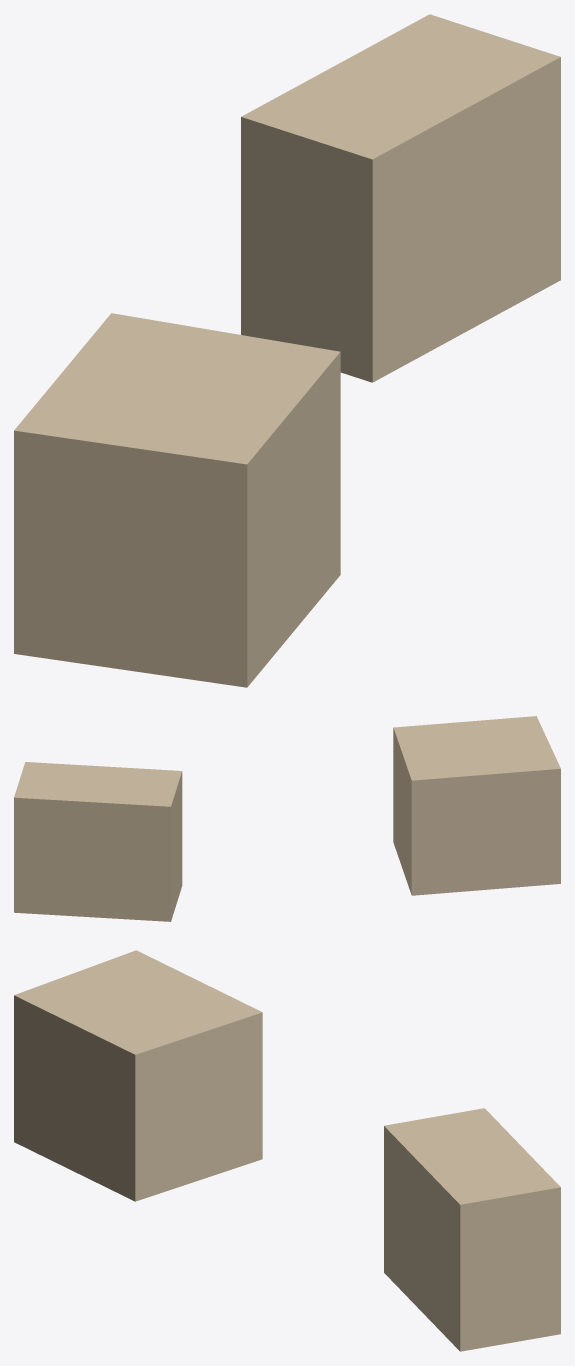
The model's file is 7_6-estimated-coarse.glb.
3 views of the same model, one above another, from view 1: azimuth 30°, elevation 25°; view 2: azimuth 150°, elevation 25°; view 3: azimuth 270°, elevation 25° (orthographic). The views are drawn at different scales.
Bounding box in the file's own units: 44.61 × 12 × 40.5.
